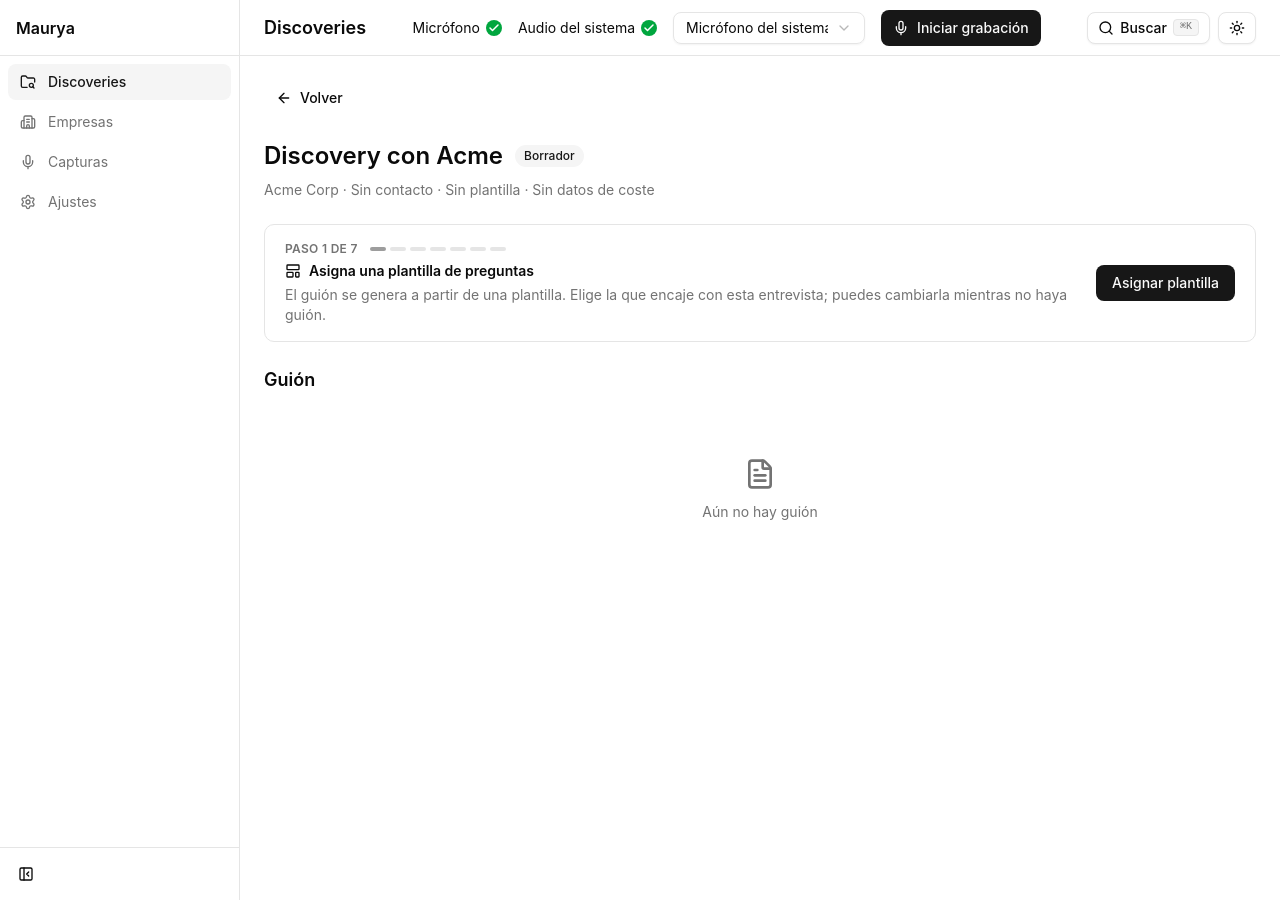
Test: RecordingSection › recording › stops associating wav/transcript to the interview, flips the badge to "Grabada" and toasts "Grabación guardada"
Step 1. Click the button "Iniciar grabación" → (961, 28), box [881,10,1041,46]
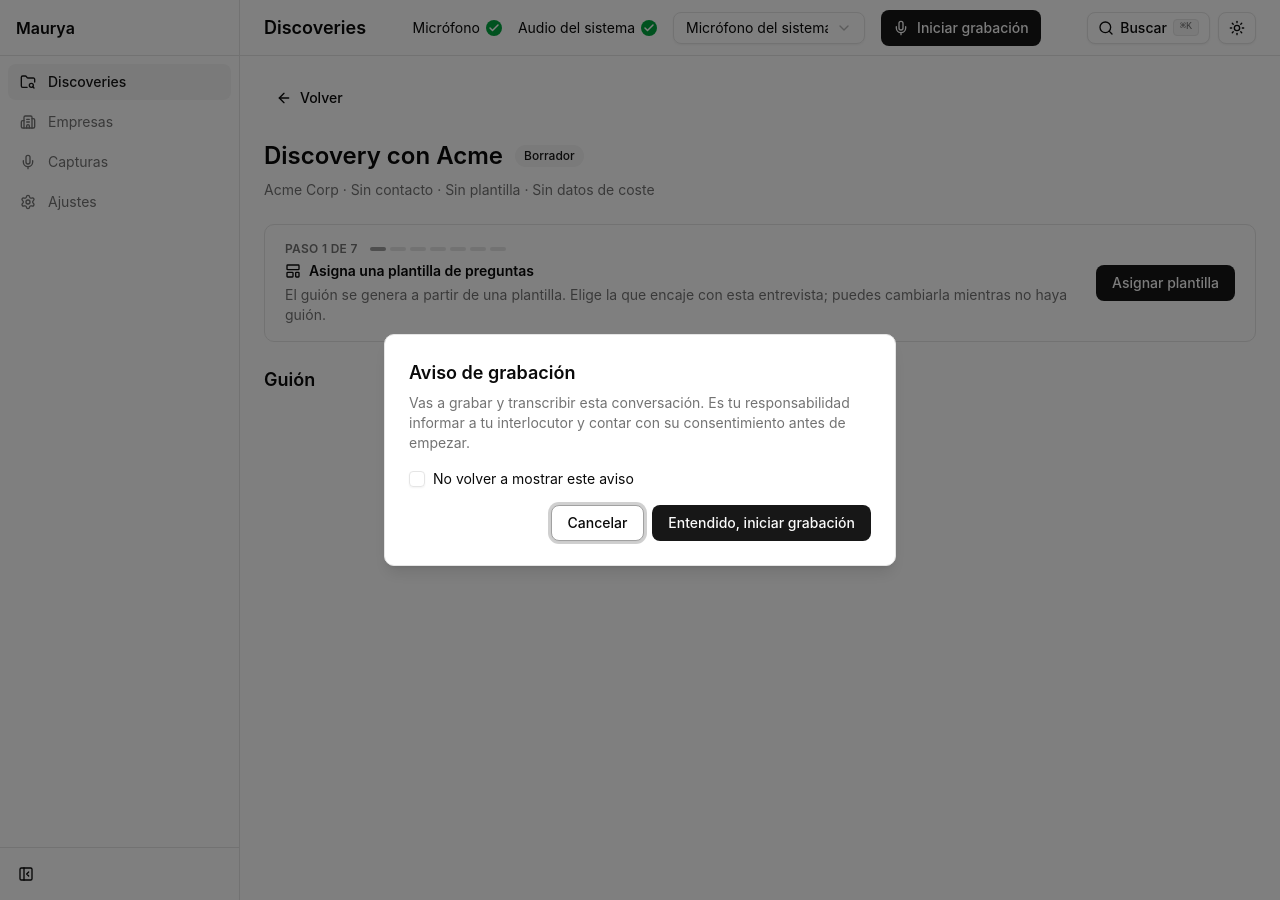
Check: the heading "Aviso de grabación" is shown, box [409,359,575,387]
Step 2. Click the button "Entendido, iniciar grabación" → (762, 523), box [652,505,871,541]
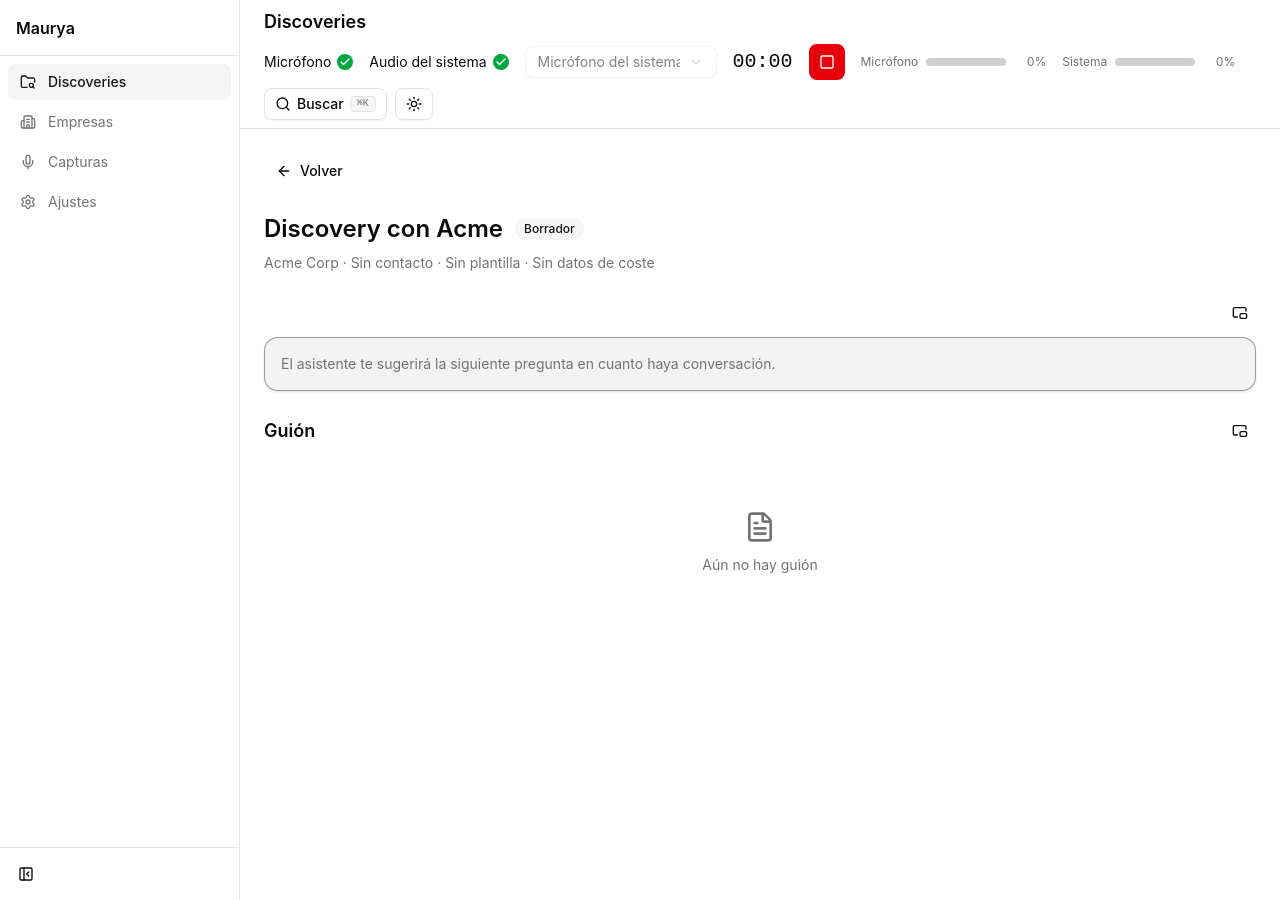
Check: the button named "Detener" is shown
Step 3. Click the button named "Detener" → (826, 62), box [808,44,844,80]
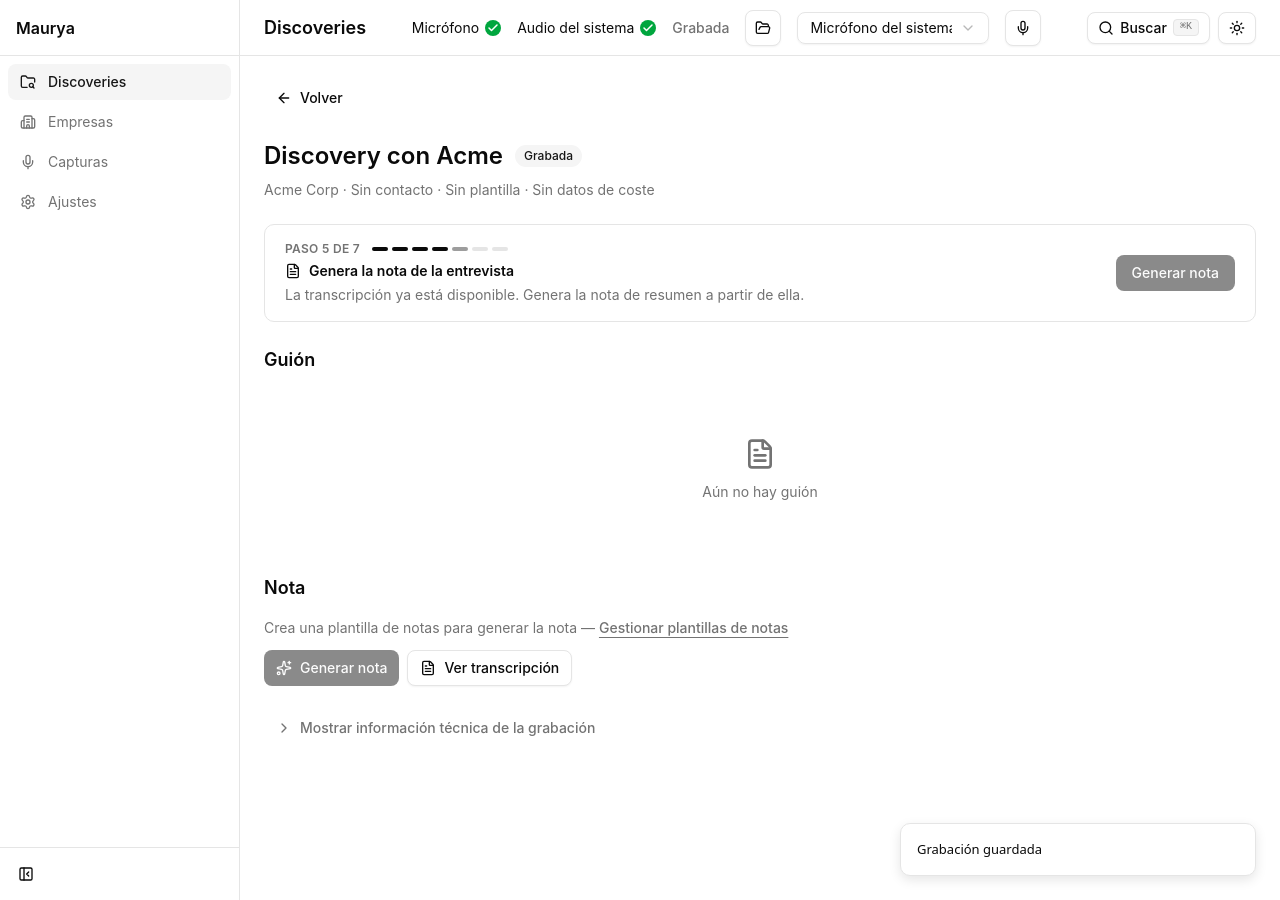
Check: the text "Grabada" next to "Audio del sistema" is shown, box [672,18,729,36]
Check: the button named "Nueva grabación" is shown, box [1006,10,1042,46]
Step 4. Click the button with test id "recording-tech-info-trigger" → (448, 728), box [264,710,1256,746]
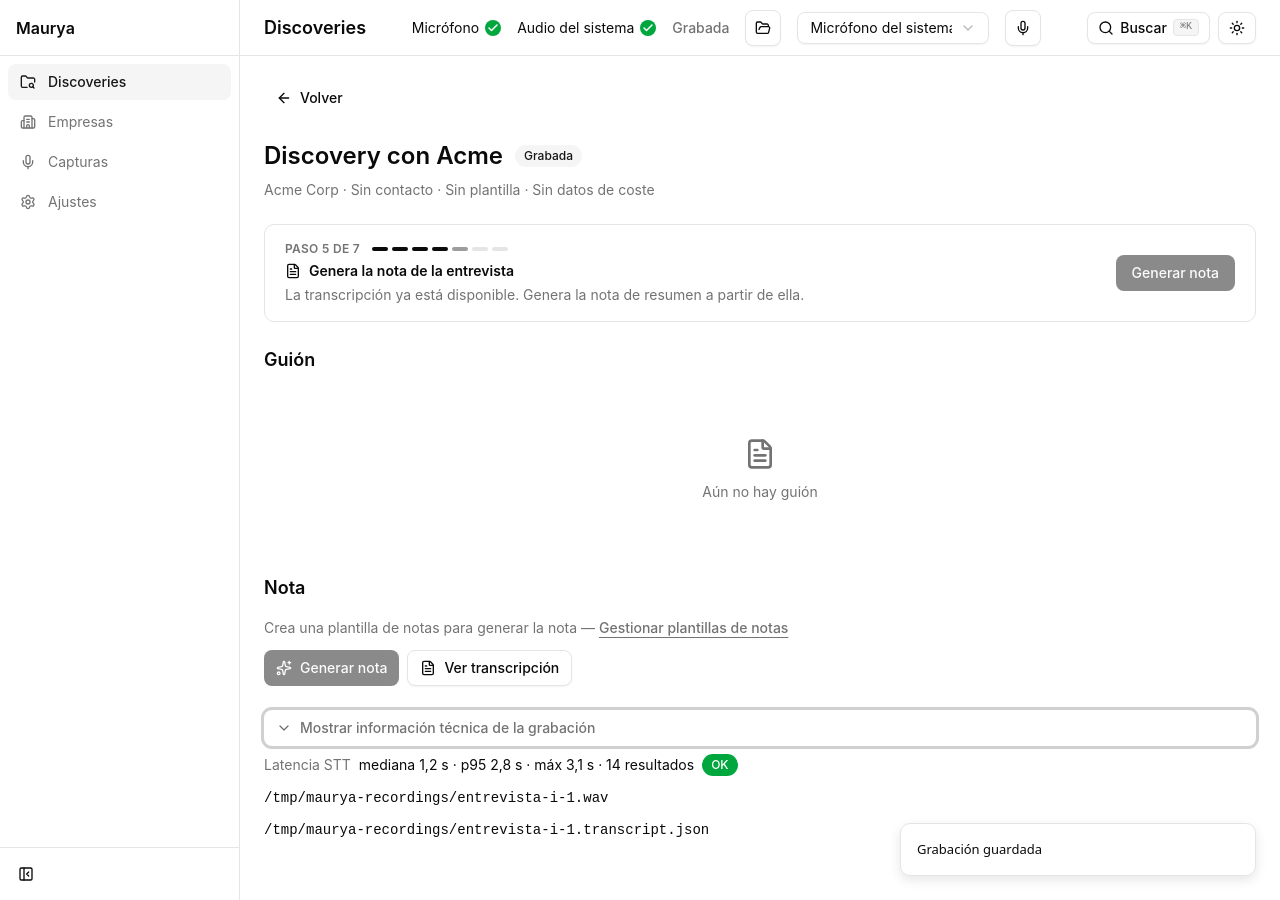
Check: the text "/tmp/maurya-recordings/entrevista-i-1.wav" is shown, box [264,790,608,806]
Check: the text "/tmp/maurya-recordings/entrevista-i-1.transcript.json" is shown, box [264,822,709,838]
